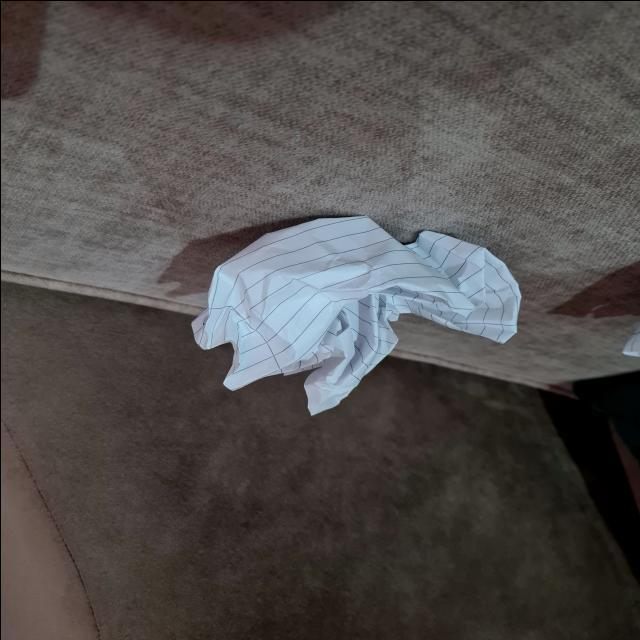Paper: (186, 216, 532, 424)
